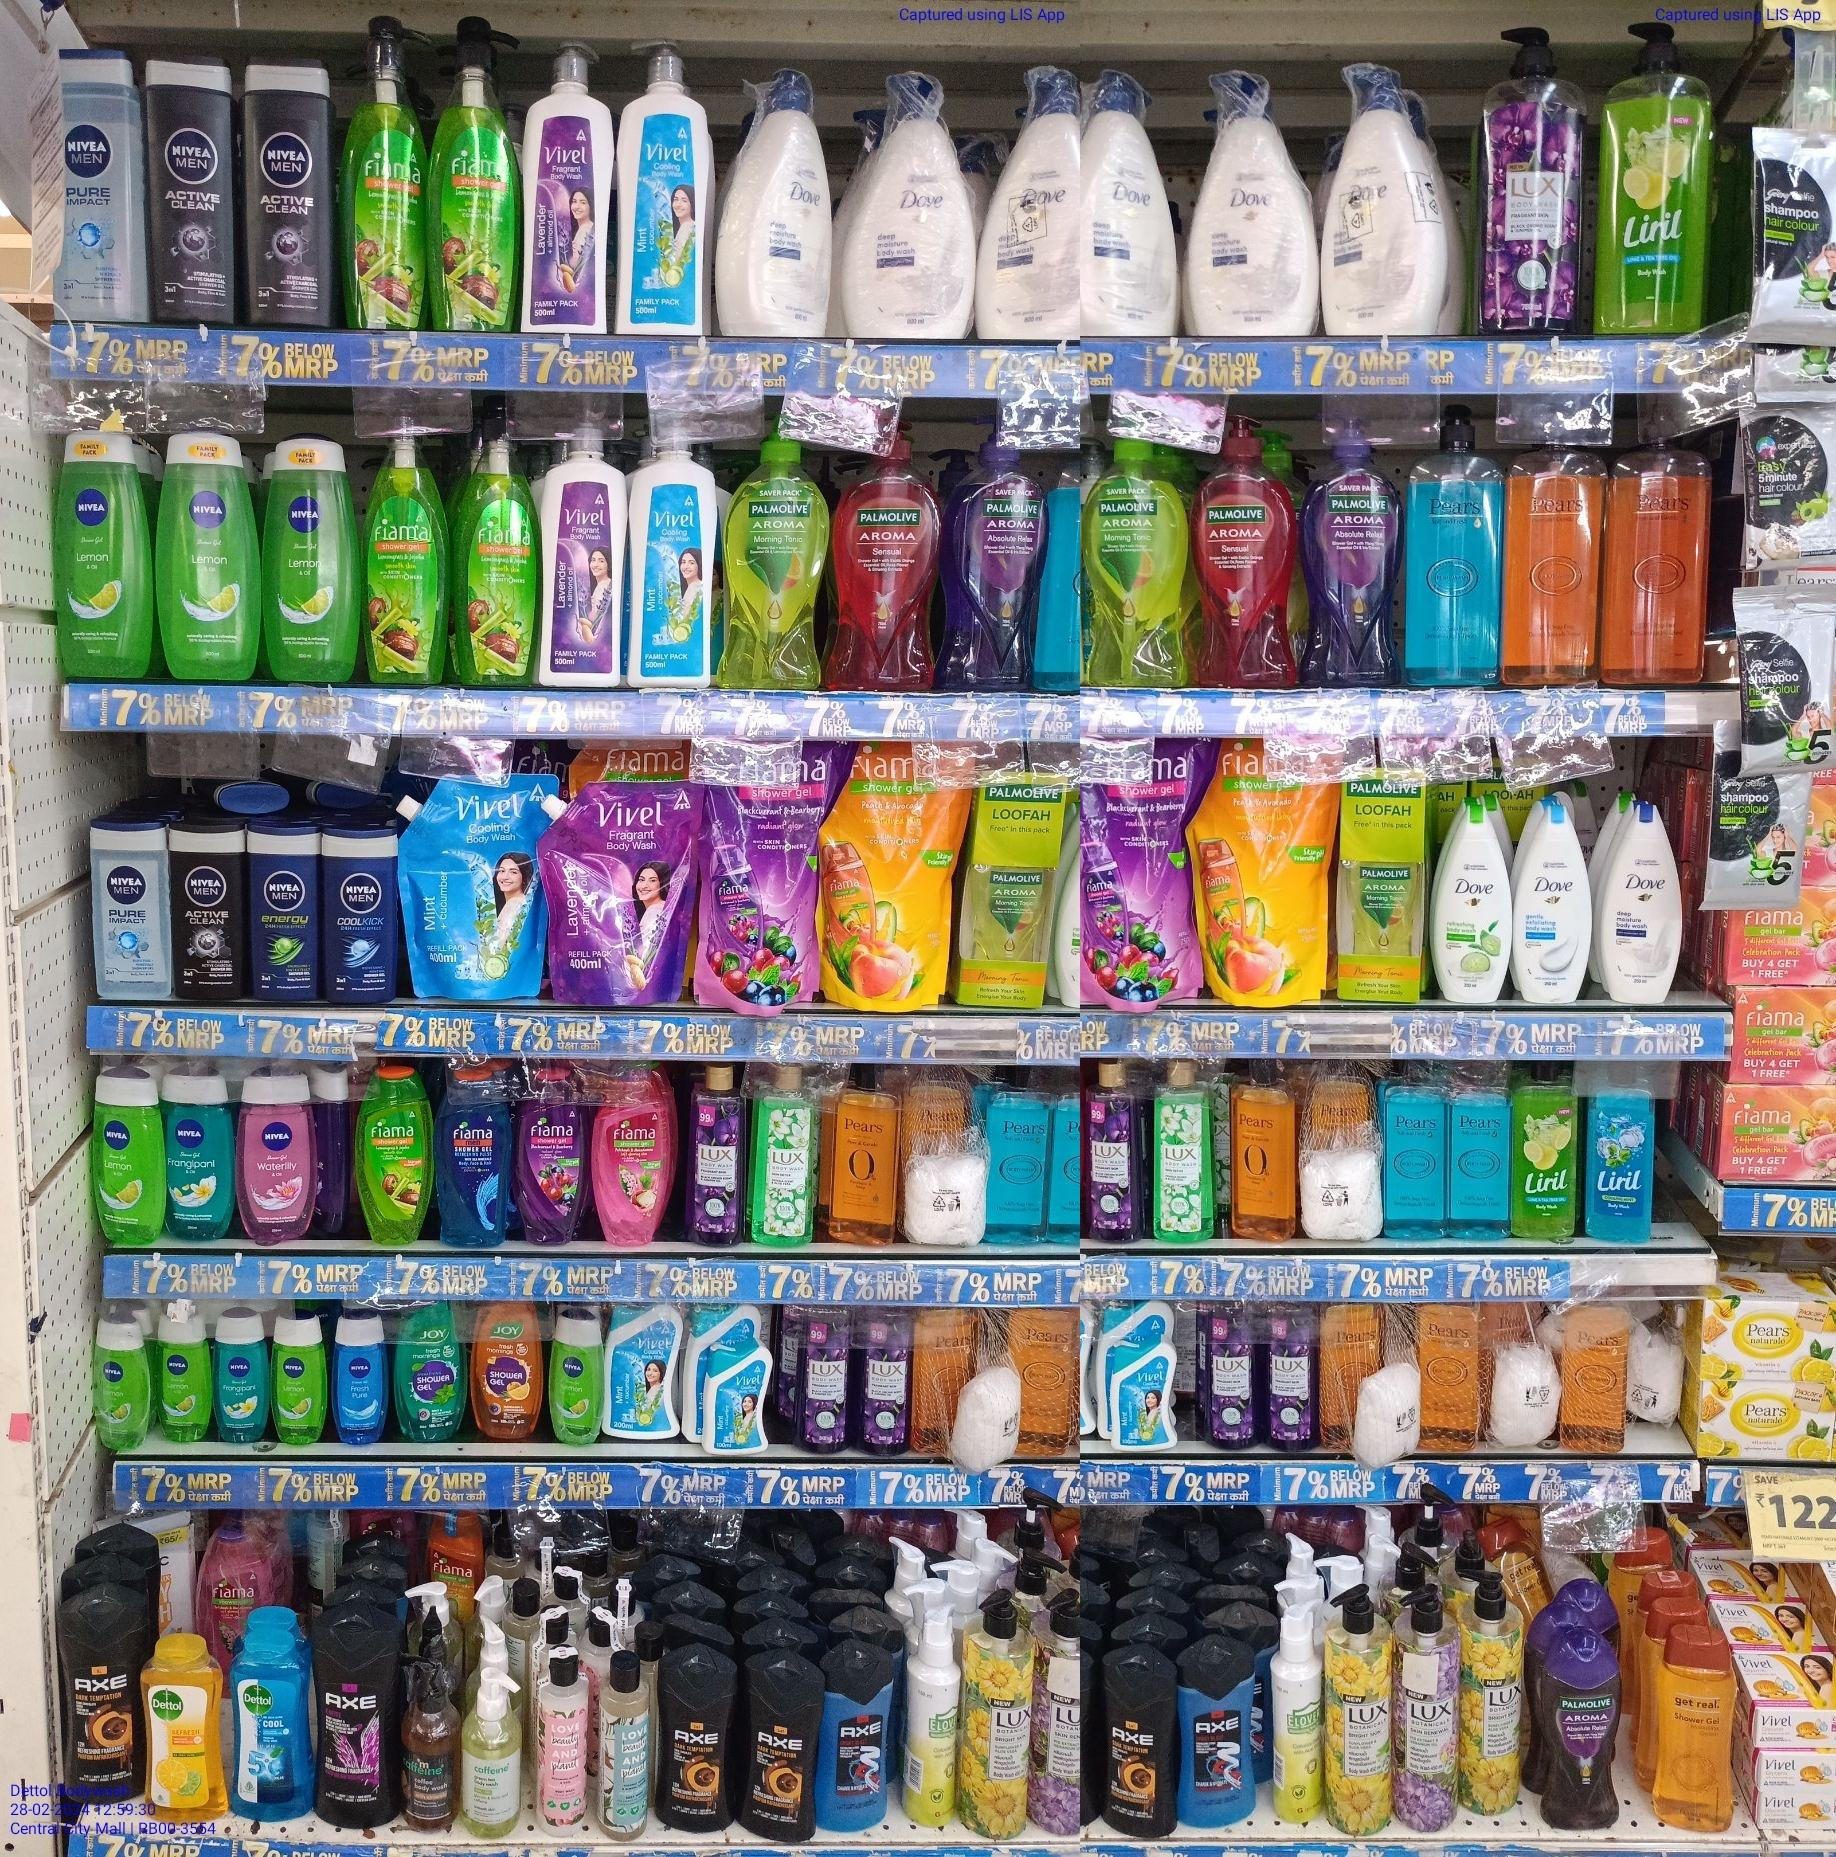Dettol_Bodywash_Cool: (232, 1605, 313, 1820)
Dettol_Bodywash_Refresh: (143, 1628, 225, 1822)
Dove_Deep_Moisture_Body_Wash_250ML: (1597, 791, 1685, 1003)
Dove_Gentle_Exfoliating_Body_Wash_250ML: (1508, 791, 1592, 1001)
Dove_Refreshing_Body_Wash_250ML: (1432, 787, 1513, 1003)
Fiama_Shower_Gel_Patchouli_and_Macadamia_250ML: (587, 1065, 673, 1250)
Joy_Shower_Gel_Mandarin_and_Lemongrass_250ML: (472, 1302, 546, 1440)
Joy_Shower_Gel_Mint_and_Eucalyptus_250ML: (390, 1302, 466, 1440)
Liril_Cooling_Mint_Body_Wash_250ML: (1580, 1063, 1658, 1243)
Liril_Lime_and_Tea_Tree_Oil_Body_Wash_250ML: (1513, 1065, 1575, 1245)
Lux_Black_Orchid_Scent_and_Juniper_Oil_Body_Wash_245ML: (674, 1058, 748, 1250), (1078, 1063, 1147, 1245)
Lux_Body_Wash_Skin_Detox_Freesia_Scent_and_Alove_Vera_245ML: (740, 1065, 820, 1245), (1150, 1065, 1221, 1240)
Nivea_Shower_Gel_Frangipani_and_Oil_250ML: (166, 1066, 240, 1245), (212, 1314, 269, 1445)
Nivea_Shower_Gel_Lemon_and_Oil_250ML: (44, 431, 160, 673), (166, 410, 261, 683), (261, 427, 356, 686), (92, 1068, 165, 1246), (86, 1302, 150, 1455), (271, 1307, 328, 1443), (150, 1305, 210, 1433), (550, 1304, 605, 1442)
Nivea_Shower_Gel_Waterlily_and_Oil_250ML: (237, 1073, 318, 1243)
Pears_Pure_Glycerin_and_Mint_Extracts_Body_Wash_250ML: (1380, 1060, 1453, 1235), (984, 1070, 1053, 1250), (1454, 1055, 1513, 1240)
